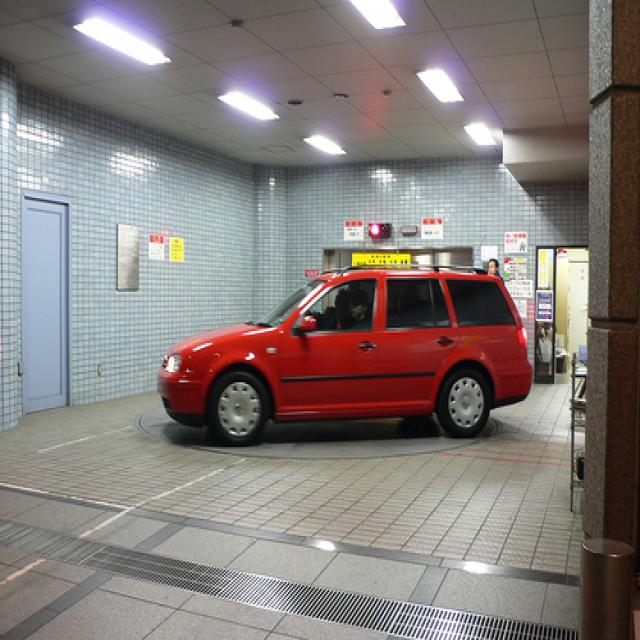Car: (151, 260, 536, 451)
